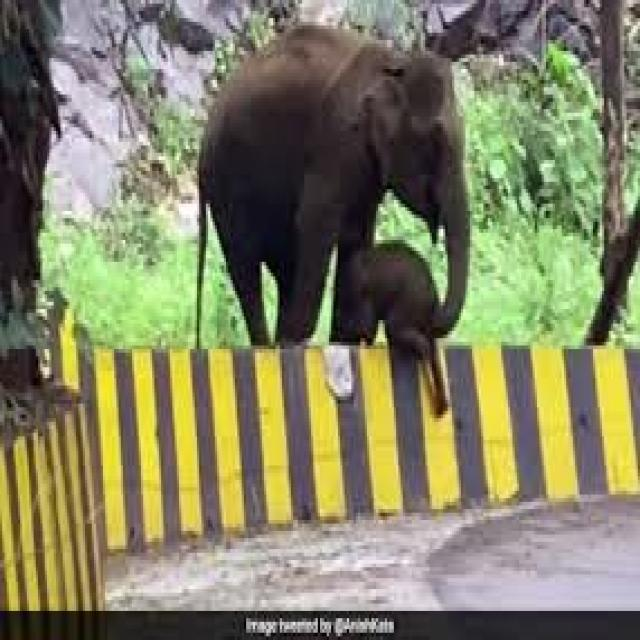Elephant: (184, 22, 489, 444), (332, 230, 467, 440)
